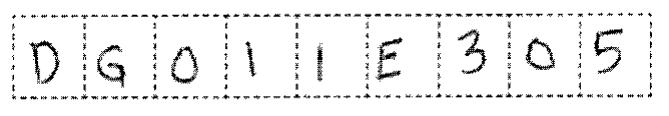0: (519, 31, 561, 76), (166, 40, 205, 86)
1: (303, 37, 339, 88), (233, 34, 271, 80)
3: (450, 27, 491, 79)
5: (590, 28, 632, 78)
D: (24, 38, 70, 88)
E: (374, 34, 411, 85)
G: (92, 40, 133, 90)
